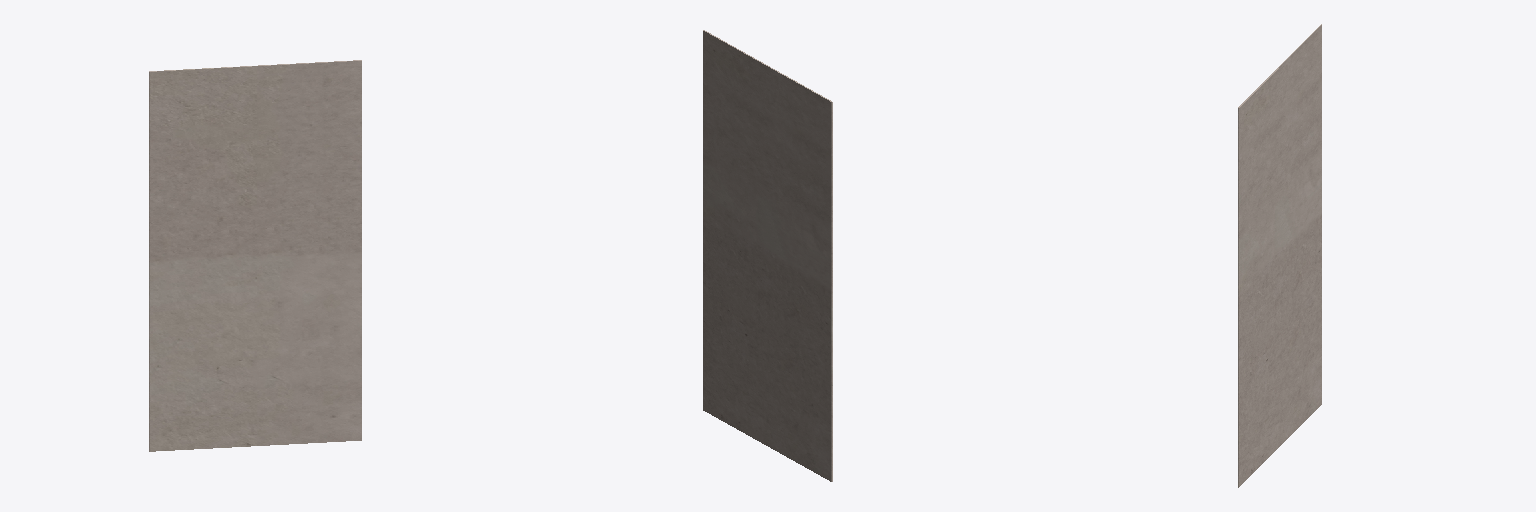
3 views of the same model, side by side, from view 1: azimuth 30°, elevation 25°; view 2: azimuth 150°, elevation 25°; view 3: azimuth 270°, elevation 25° (orthographic).
Parts seen in each view (by area): view 1: Box_11_FlapOuter_2; view 2: Box_11_FlapOuter_2; view 3: Box_11_FlapOuter_2.
Boxes of the visible parts, <box> form: Box_11_FlapOuter_2: <box>149,60,361,451</box>; Box_11_FlapOuter_2: <box>703,30,832,481</box>; Box_11_FlapOuter_2: <box>1238,24,1321,487</box>.
Bounding box in the file's own units: 0.1419 × 0.3004 × 0.0606.
1 materials, 1 textured.